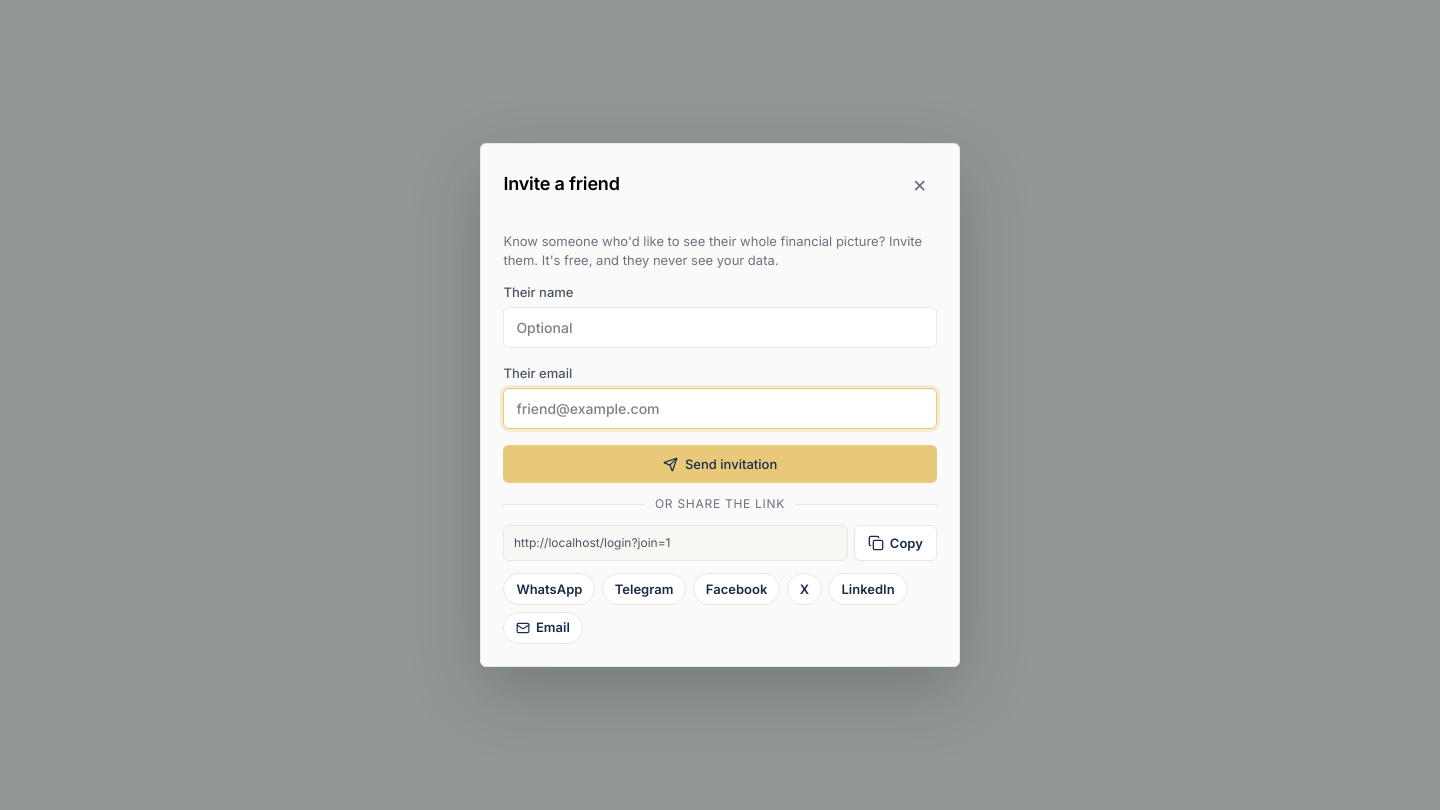
Test case: InviteDialog › emails an invitation with the friend's name
This screenshot has width=1440, height=810.
Type " Ben " into the field labelled "Their name" at (720, 328), box [503,307,937,348]
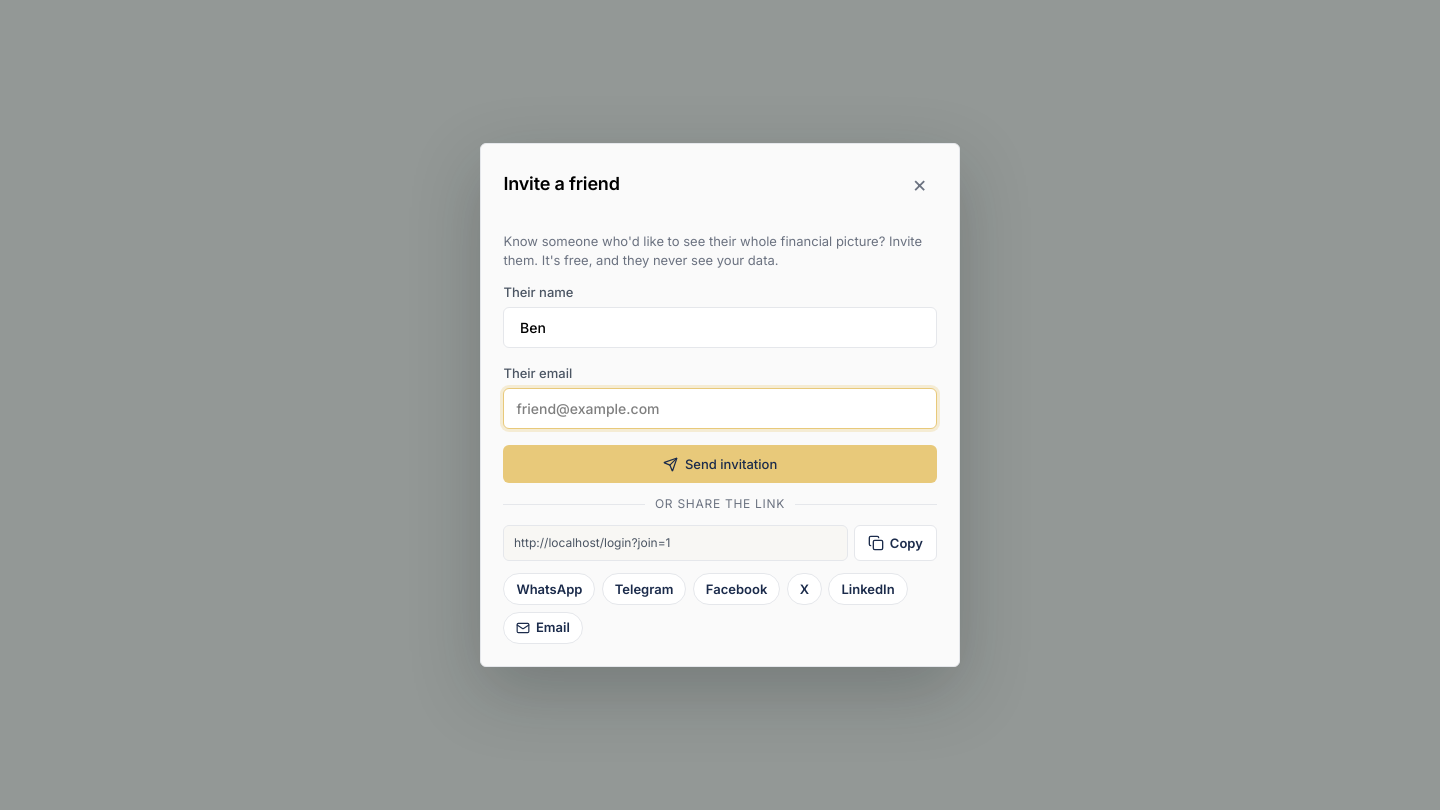
Type "ben@example.com" into the field labelled "Their email" at (720, 409), box [503,388,937,429]
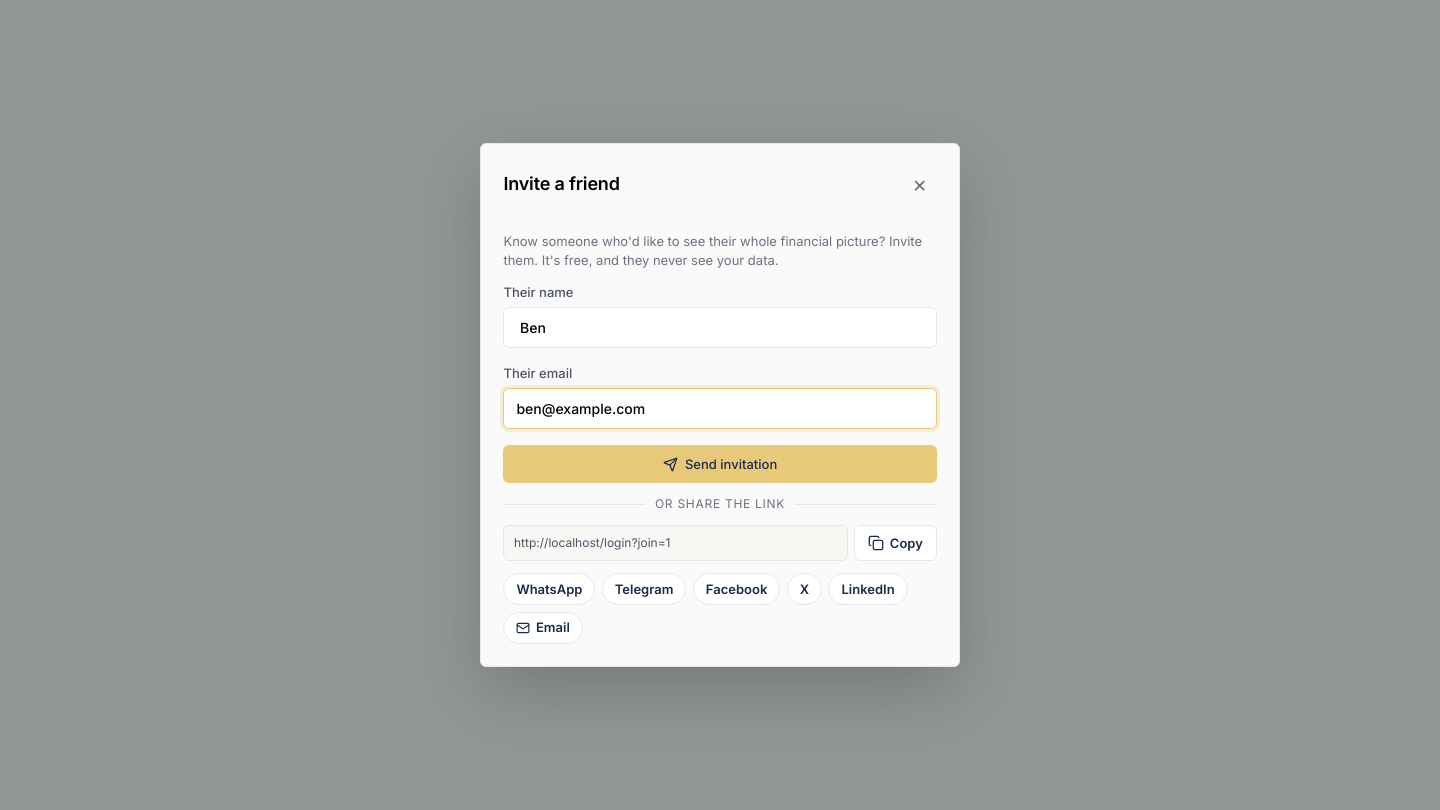
Click the button "Send invitation" at (720, 464), box [503,445,937,483]
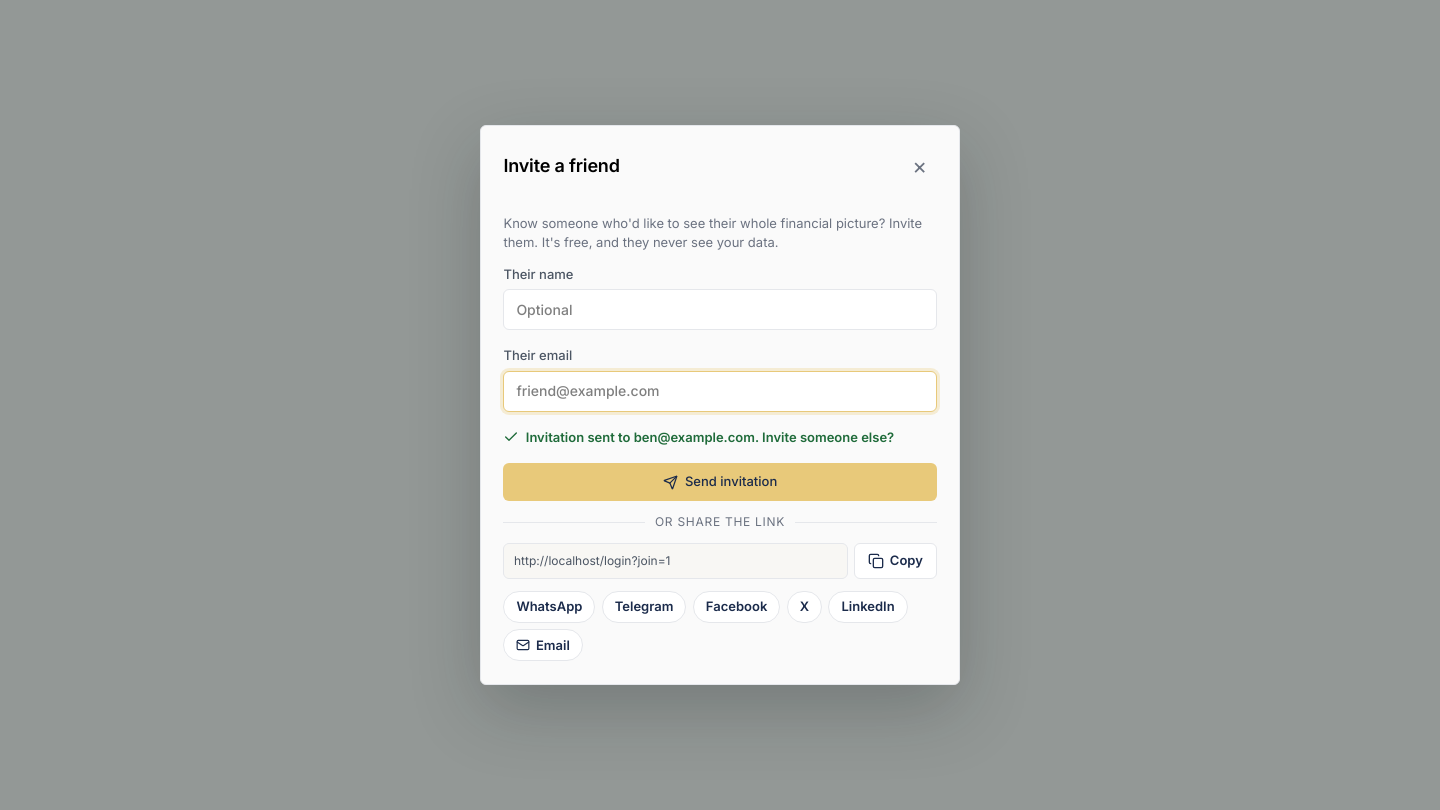
Check: the text "Invitation sent to ben@example.com. Invite someone else?" is shown, box [503,428,937,447]
